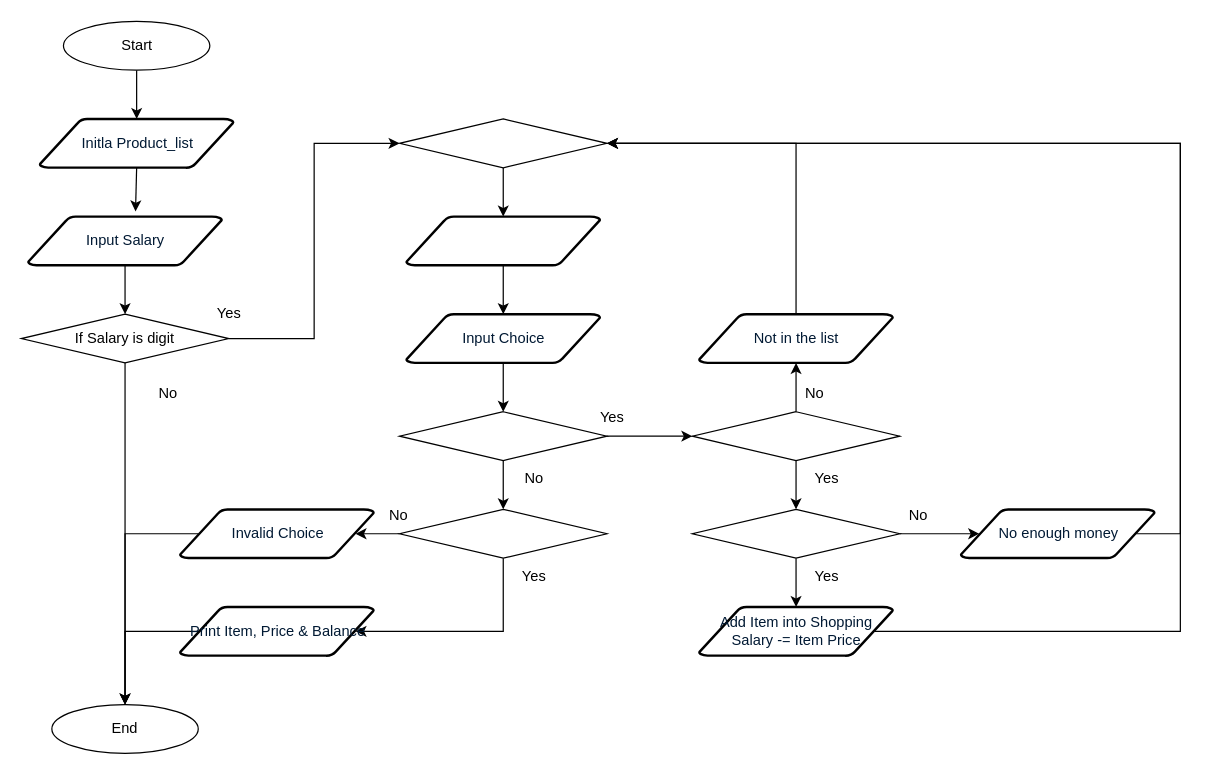
Image size: 1211x775. Some labels were removed from this diagram. Each missing label, with the centre of its shape:
else If Choice is quit: pixel 502 533
Enumerate Product_list: pixel 502 240
If Choice is digit: pixel 502 436
If Choice is validated: pixel 795 436
if Salary > Item Price: pixel 795 533
While True: pixel 502 143
